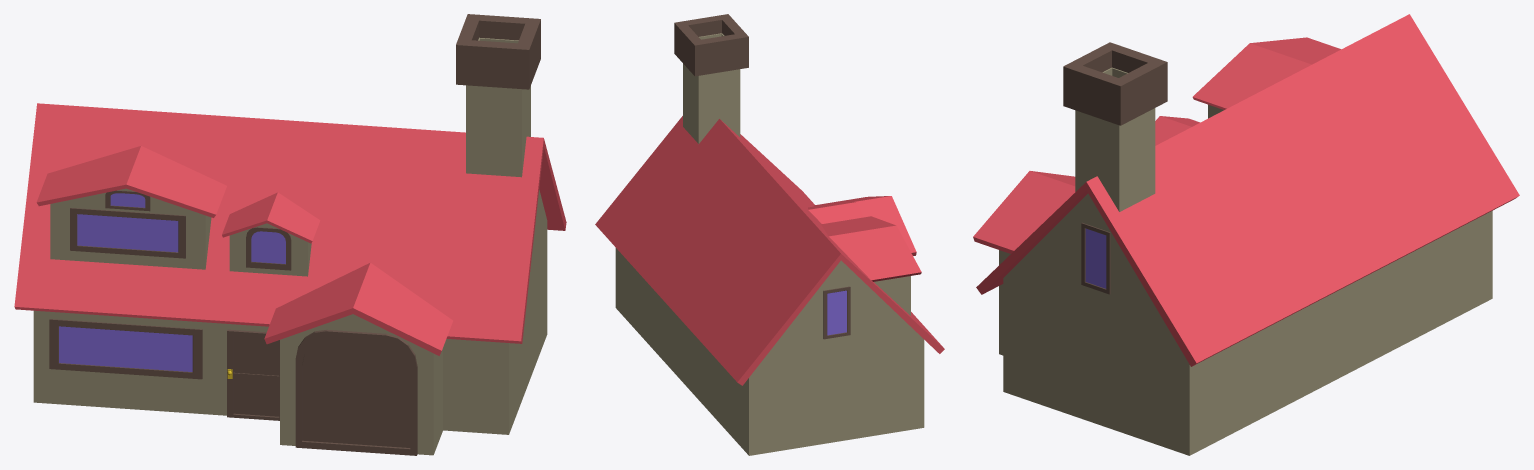
The model's file is CALLE4_CASA1_031.fbx.
3 views of the same model, side by side, from view 1: azimuth 30°, elevation 25°; view 2: azimuth 150°, elevation 25°; view 3: azimuth 270°, elevation 25° (orthographic). The views are drawn at different scales.
Parts seen in each view (by area): view 1: CASA1.031; view 2: CASA1.031; view 3: CASA1.031.
Boxes of the visible parts, bbox=[...] form: CASA1.031: bbox=[14, 14, 566, 455]; CASA1.031: bbox=[595, 14, 944, 455]; CASA1.031: bbox=[973, 14, 1519, 455].
Bounding box in the file's own units: 1097 × 734 × 1040.
